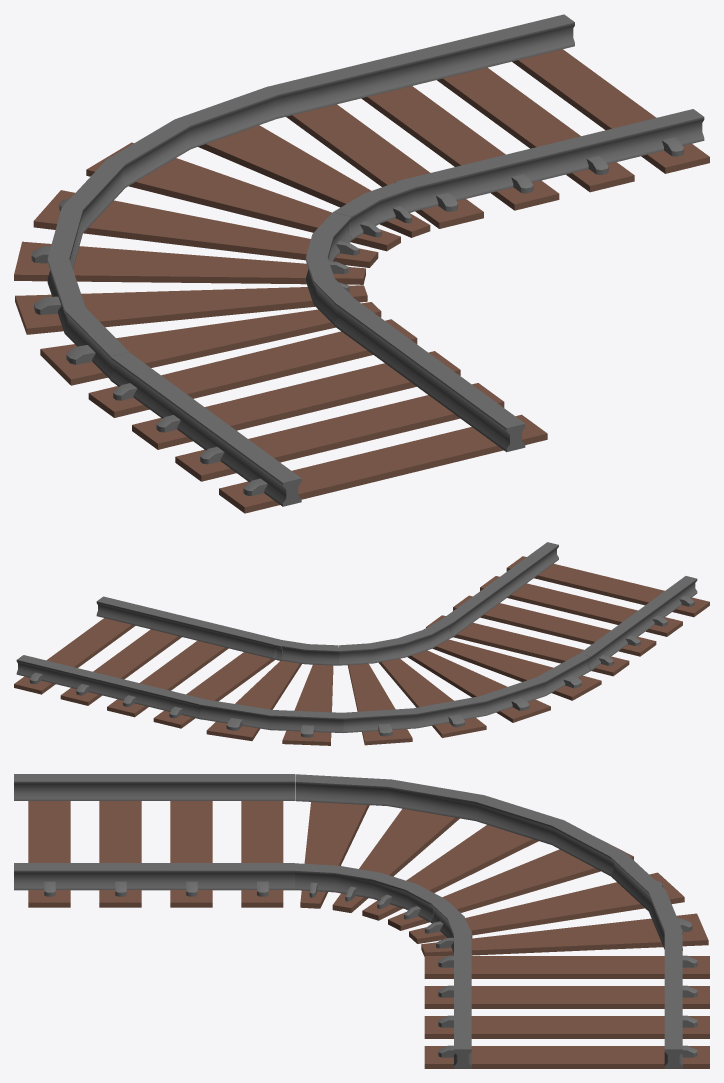
File: trilho_L.fbx
3 renders of one model, top to bottom at view 1: azimuth 30°, elevation 25°; view 2: azimuth 150°, elevation 25°; view 3: azimuth 270°, elevation 25°, orthographic. The views are drawn at different scales.
Visible parts, largest first — view 1: trilho_L; view 2: trilho_L; view 3: trilho_L.
Part boxes in pixels (x1,y1,x2,y2): trilho_L: [14, 14, 709, 513]; trilho_L: [14, 542, 709, 745]; trilho_L: [14, 774, 709, 1068].
Bounding box in the file's own units: 483 × 19.27 × 495.
